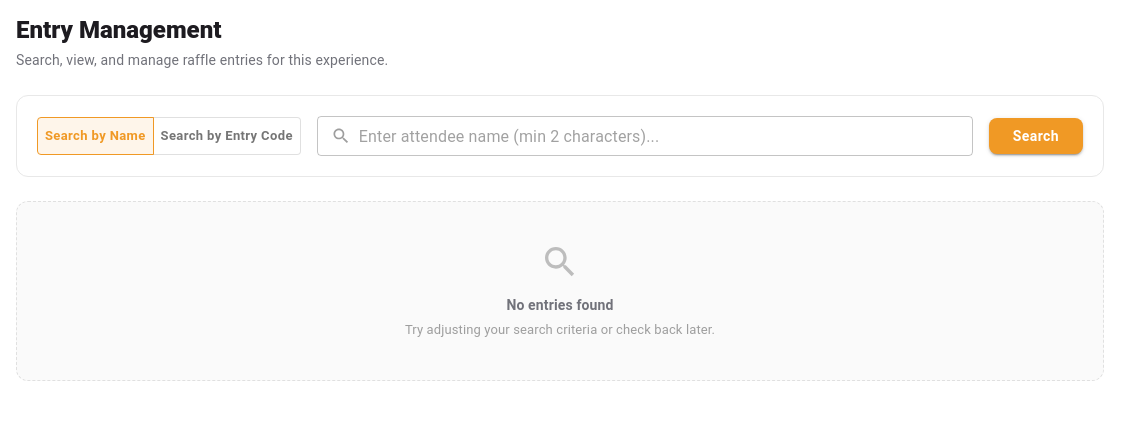
EntryManagement › shows validation error for name search with fewer than 2 characters
The width and height of the screenshot is (1121, 421).
Expected: the heading "Entry Management" is shown, [16,16,222,44]
Step 1. Type "A" into the field with placeholder "Enter attendee name (min 2 characters)..." → (666, 136), box [359,116,973,156]
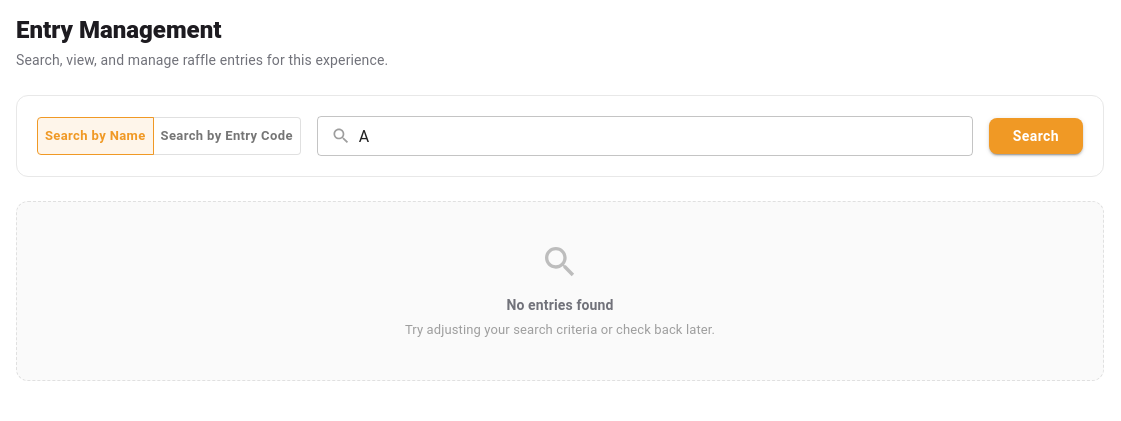
Step 2. Click the button "Search" → click(1036, 136), box [989,118,1083,154]
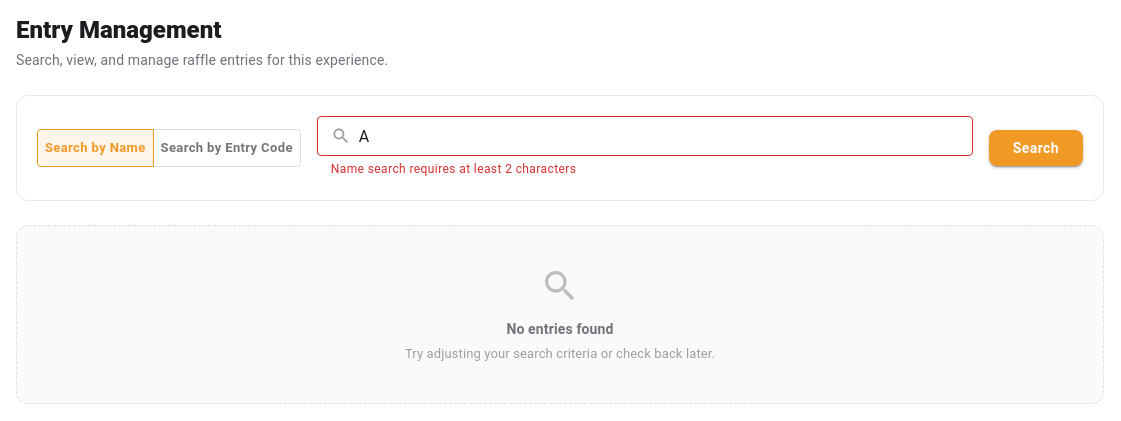
Result: the text "Name search requires at least 2 characters" is shown at [331,162,576,176]
